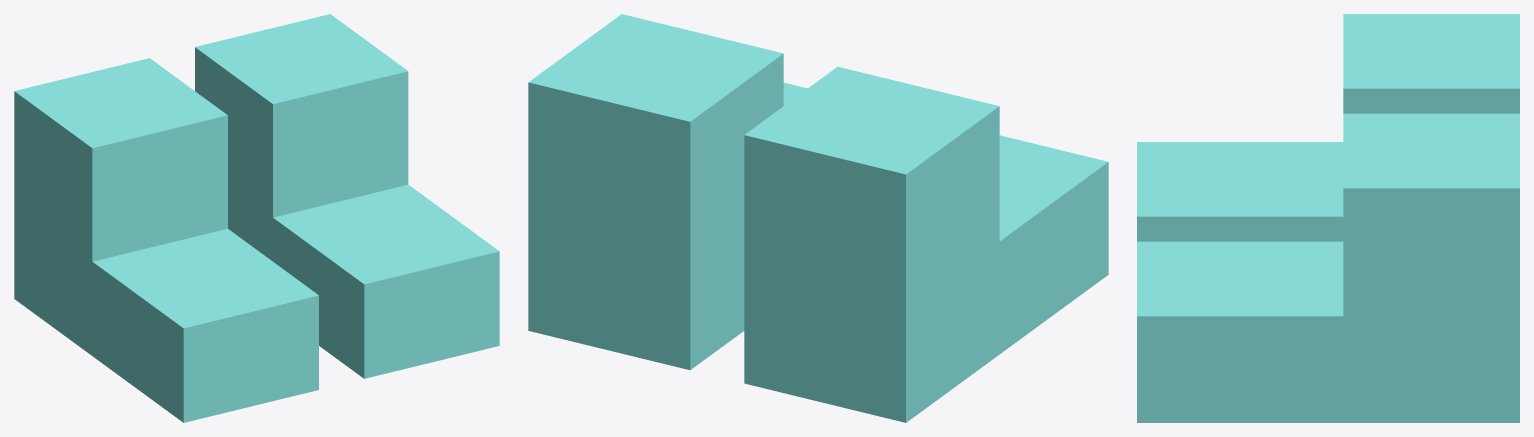
File: diamond_boots.glb
The picture shows the model from 3 angles, left to right: view 1: azimuth 30°, elevation 25°; view 2: azimuth 150°, elevation 25°; view 3: azimuth 270°, elevation 25°; orthographic projection. The views are drawn at different scales.
Visible parts, largest first — view 1: ankle0, ankle1, toe0, toe1; view 2: ankle0, ankle1, toe0; view 3: ankle1, toe1, toe0, ankle0.
Boxes of the visible parts, x1,y1,x2,y2 form: ankle0: [14, 58, 227, 355]; ankle1: [195, 14, 408, 261]; toe0: [92, 228, 318, 422]; toe1: [249, 184, 499, 378]; ankle0: [744, 66, 999, 422]; ankle1: [528, 14, 783, 370]; toe0: [971, 135, 1108, 374]; ankle1: [1343, 113, 1519, 422]; toe1: [1137, 241, 1396, 422]; toe0: [1137, 142, 1343, 241]; ankle0: [1343, 14, 1519, 113].
Size of the model in its own units: 0.35 by 0.22 by 0.325.
